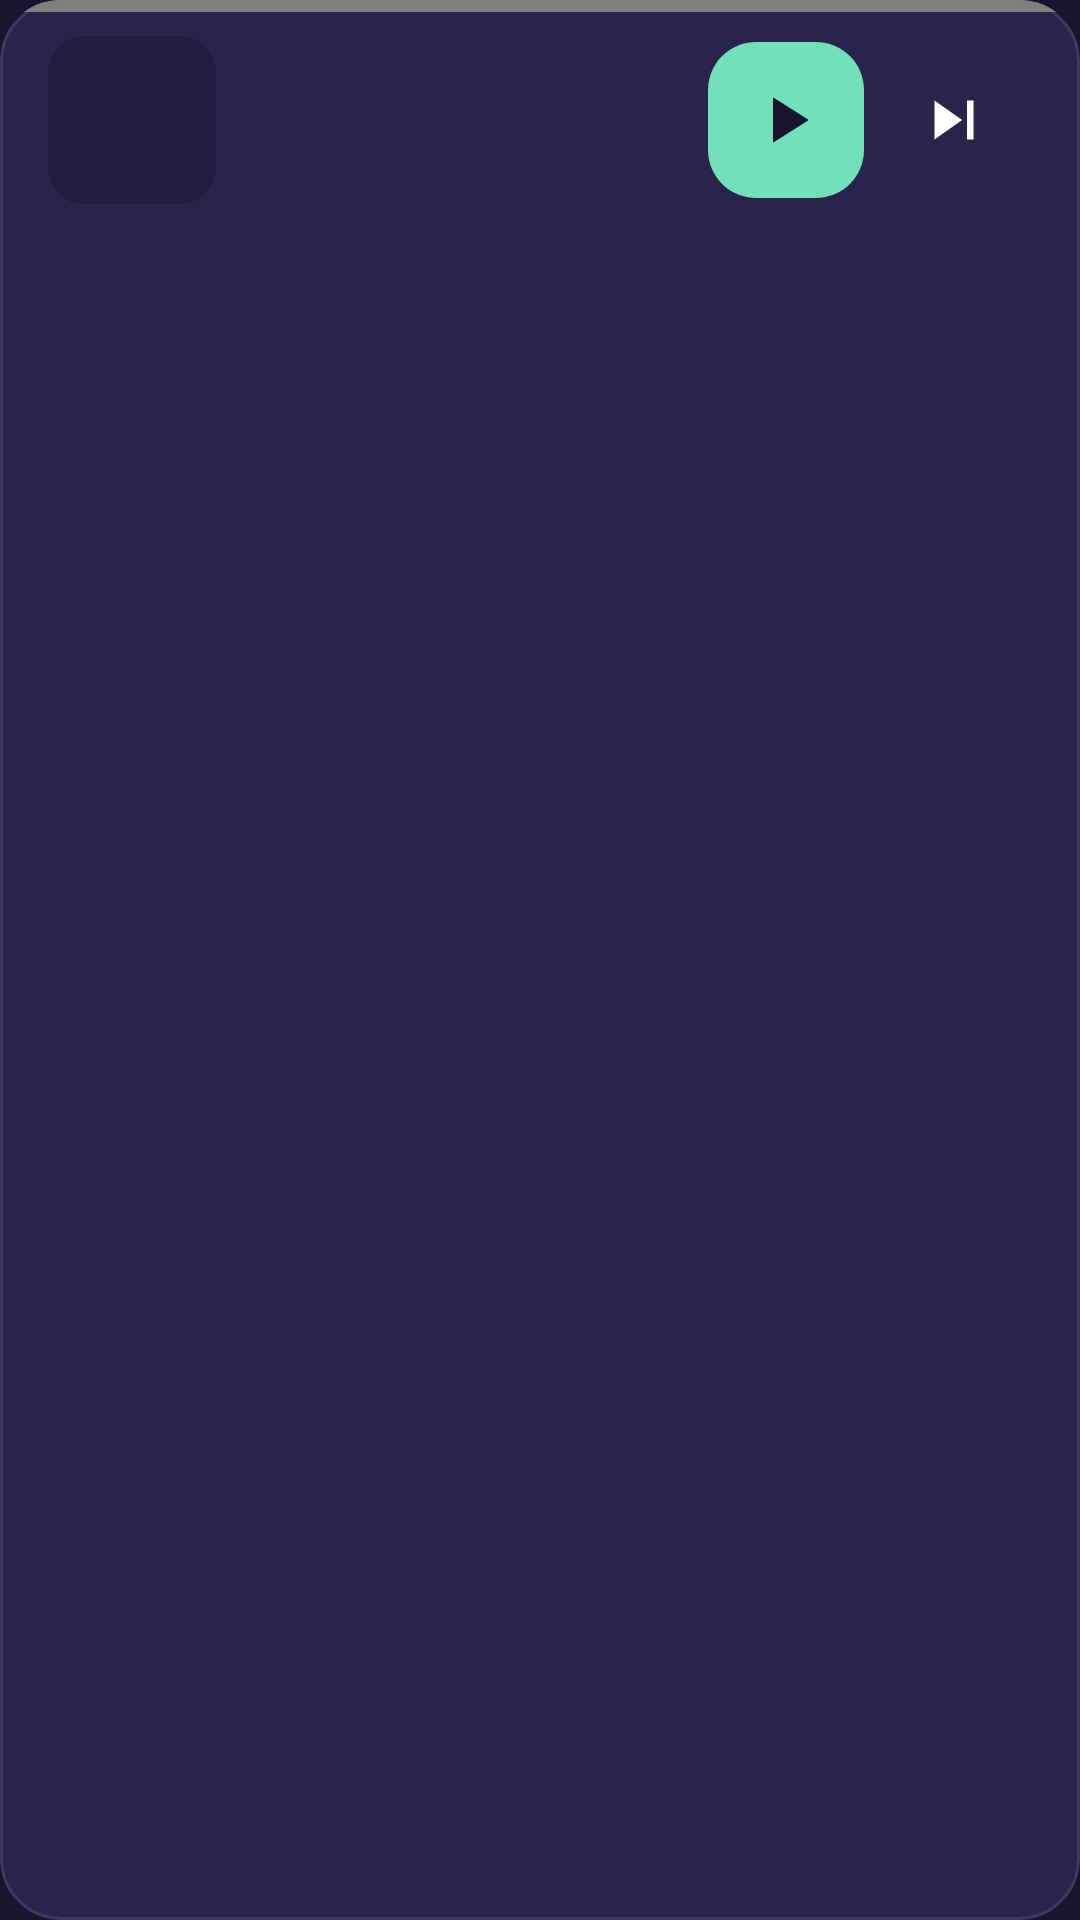

Where icons sit on this 1080 x 1920 app screen, as (x1=x1, y1=y1, x2=x2, y2=y2):
Reproducir: (x1=773, y1=97, x2=809, y2=143)
Siguiente: (x1=934, y1=100, x2=974, y2=140)
